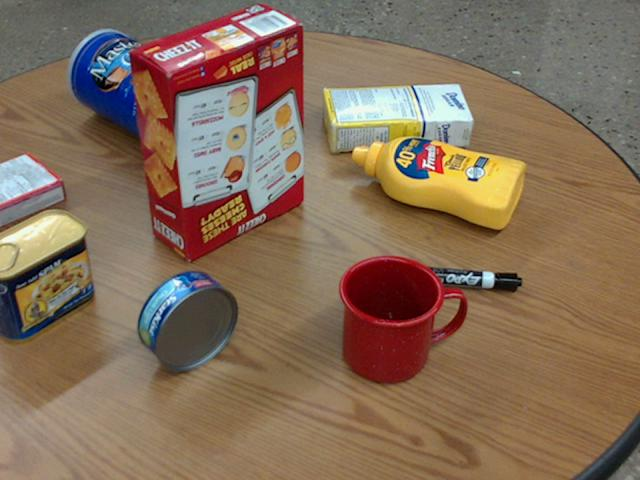cracker_box: (128, 6, 303, 261)
gelatin_box: (0, 153, 66, 227)
large_marker: (400, 264, 522, 291)
master_chef_can: (65, 30, 207, 150)
mug: (339, 254, 465, 383)
mustard_bottle: (351, 137, 525, 227)
potted_meat_can: (0, 210, 93, 343)
sugar_box: (322, 82, 474, 152)
tomato_soup_can: (234, 16, 288, 112)
tuna_fish_can: (137, 270, 238, 371)
